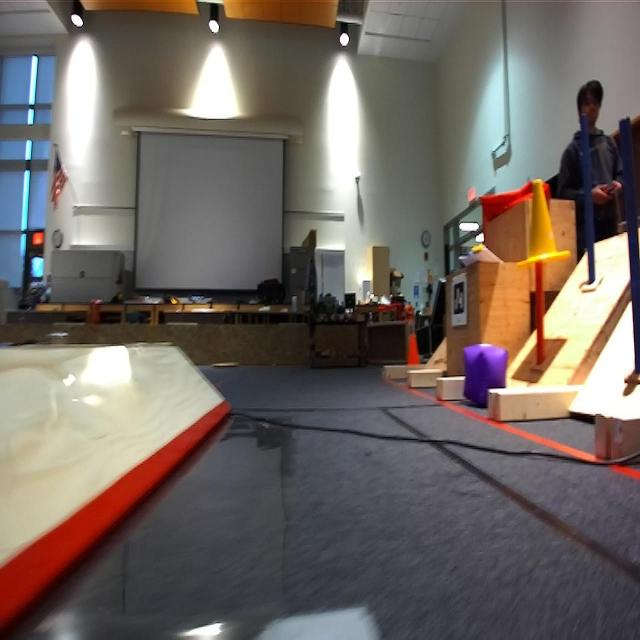frc_cone: (522, 177, 566, 267)
frc_cube: (463, 343, 507, 406)
